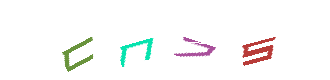5: (197, 0, 277, 80)
7: (124, 0, 204, 80)
C: (36, 0, 116, 80)
N: (96, 0, 176, 80)
